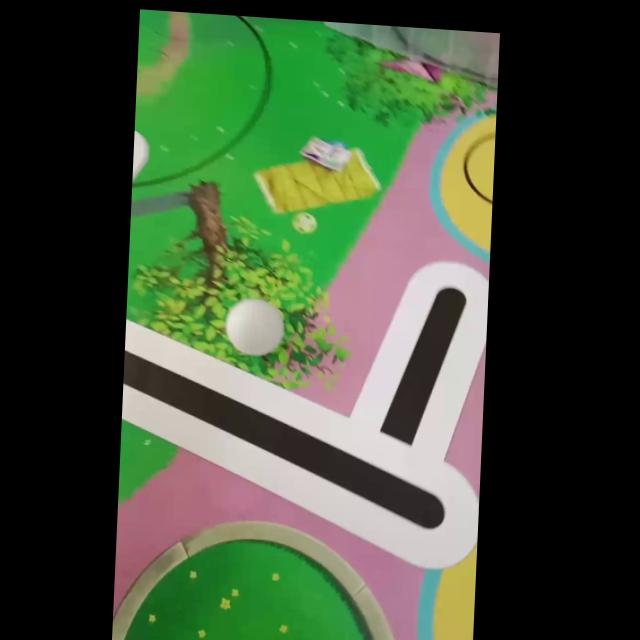white ball: (223, 296, 286, 358)
